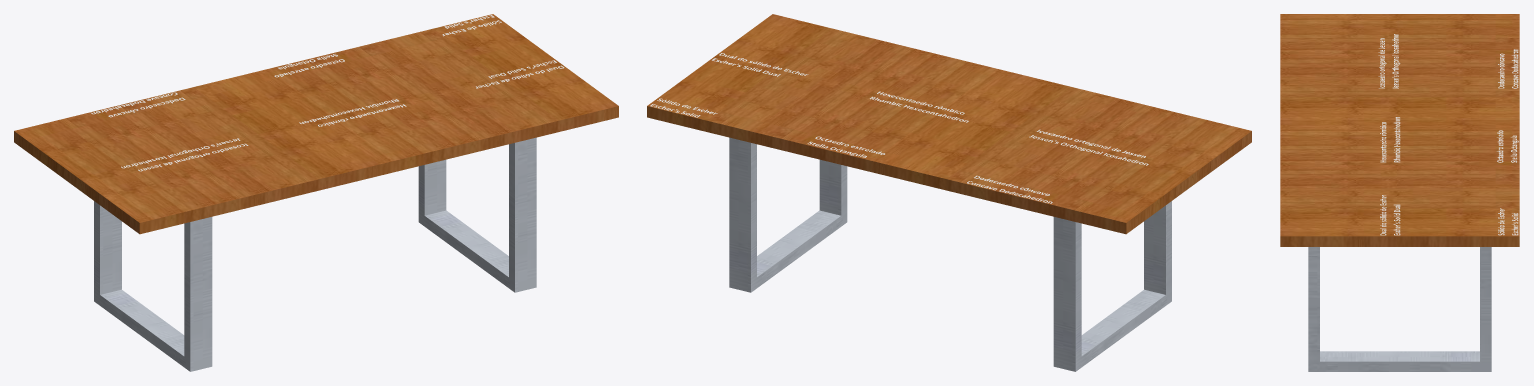
The model's file is mesa_nonConvex1.glb.
3 renders of one model, left to right at view 1: azimuth 30°, elevation 25°; view 2: azimuth 150°, elevation 25°; view 3: azimuth 270°, elevation 25°, orthographic. The views are drawn at different scales.
Visible parts, largest first — view 1: object 1, Composant#1 (×2), Icosaedro ortogo; view 2: object 1, Composant#1 (×2), Icosaedro ortogo; view 3: object 1, Composant#1, Icosaedro ortogo, Hexecontaedro rô, Dodecaedro cônca, Dual do sólido d, Octaedro estrela, Sólido de Escher.
Boxes of the visible parts, box(x1,y1,x2,y2) form: object 1: box(14, 14, 618, 234); Composant#1 (×2): box(94, 137, 536, 371); Icosaedro ortogo: box(121, 138, 248, 171); object 1: box(647, 14, 1251, 234); Composant#1 (×2): box(729, 137, 1171, 371); Icosaedro ortogo: box(1029, 129, 1148, 165); object 1: box(1280, 14, 1519, 246); Composant#1: box(1308, 247, 1491, 371); Icosaedro ortogo: box(1378, 34, 1400, 88); Hexecontaedro rô: box(1380, 117, 1400, 162); Dodecaedro cônca: box(1498, 49, 1518, 88); Dual do sólido d: box(1380, 195, 1400, 235); Octaedro estrela: box(1497, 130, 1518, 162); Sólido de Escher: box(1498, 208, 1518, 235).
Size of the model in its own units: 2.2 by 0.771 by 1.
3 materials, 2 textured.
